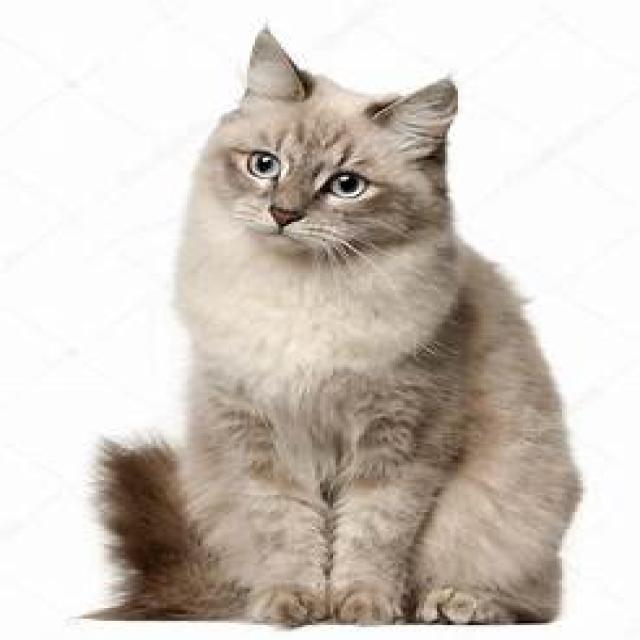cat: (78, 19, 583, 627)
